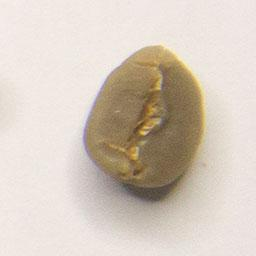premium: (81, 43, 208, 191)
